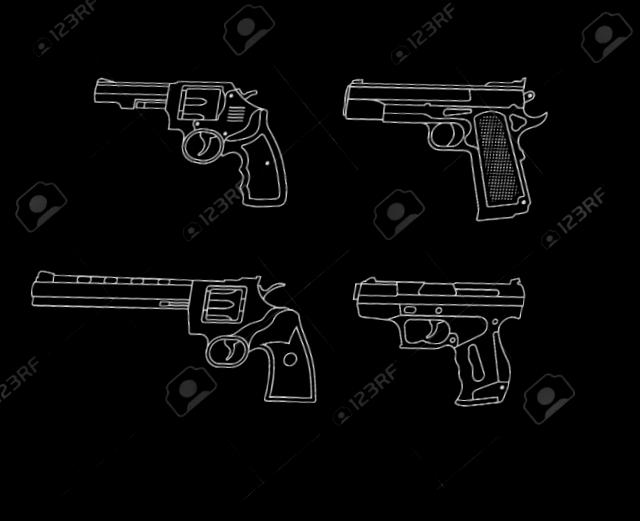pistol: (13, 249, 353, 429), (328, 61, 563, 248), (72, 54, 323, 226), (340, 265, 550, 428)
